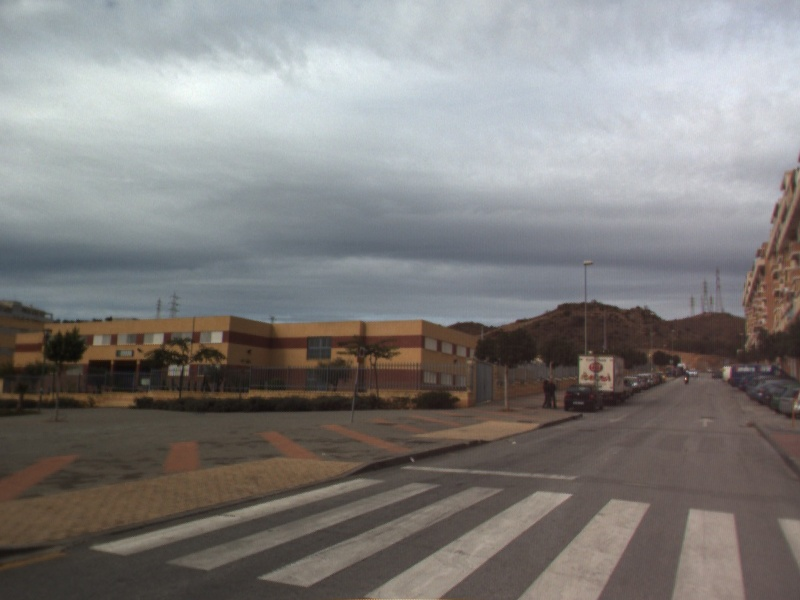STRAIGHT: (696, 415, 717, 429)
